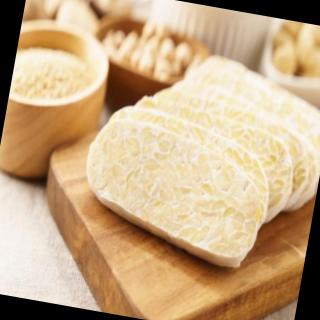Tempe: (69, 37, 320, 285)
